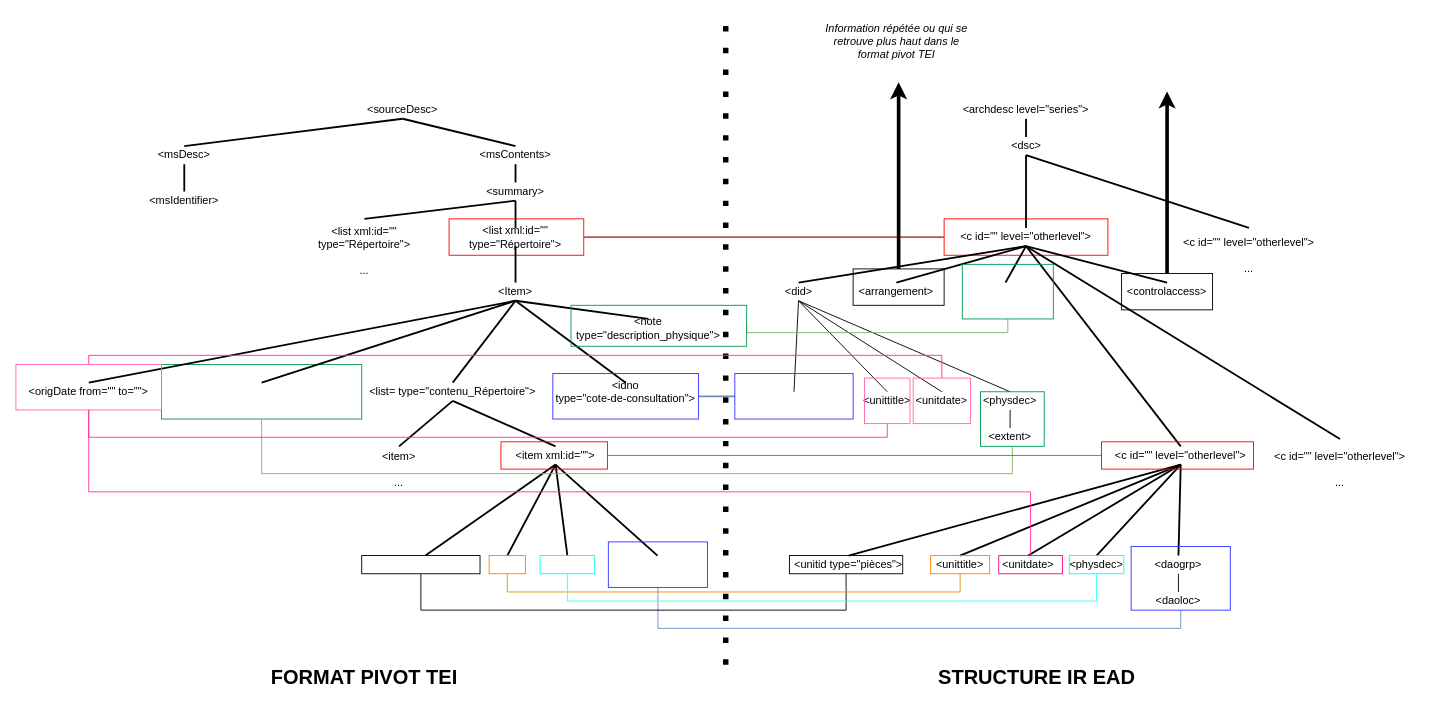
Some shapes in this 1433 by 725 pixel diagram are drawn without their labels. The shapes that lost their labels are listed below. From the top down, each one's centre as x and y in pixels, then its label:
(1007,291): <scopecontent>
(261,391): <note type="description_diplomatique">
(793,396): <unitid type="cote-de-consultation">
(420,564): <idno type="pièces">
(507,564): <title>
(567,564): <material>
(657,564): <graphic url="">
